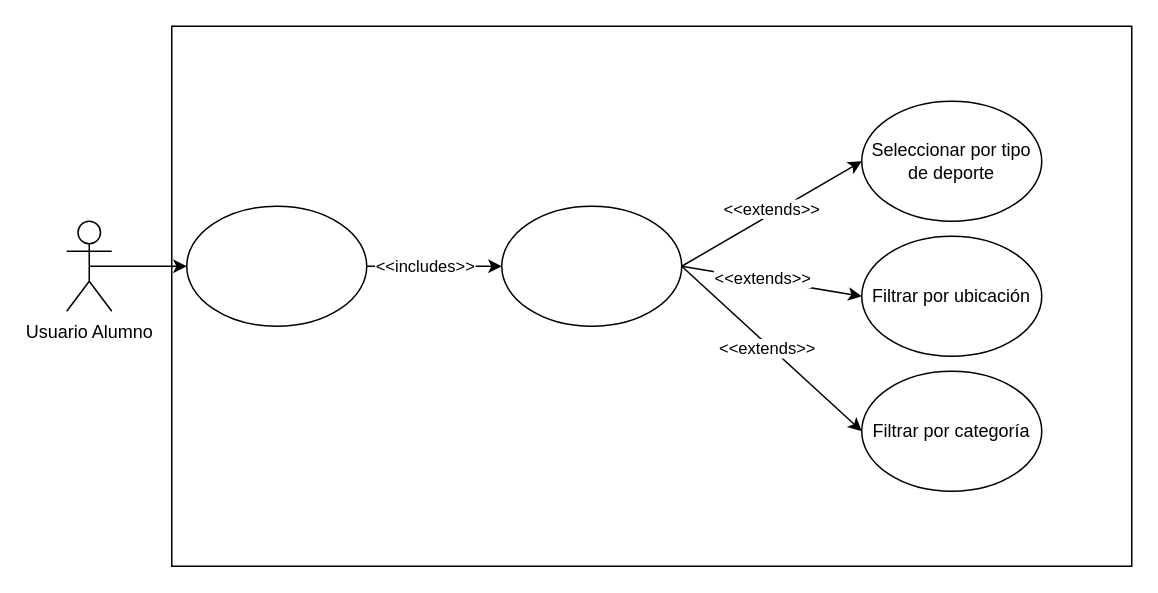
Some shapes in this 1158 by 593 pixel diagram are drawn without their labels. Here are the shapes that lost their labels. From the top down, the centre of each, then its label:
At point 276,265: "Ver listado de eventos próximos".
At point 591,265: "Filtrar por intereses".
